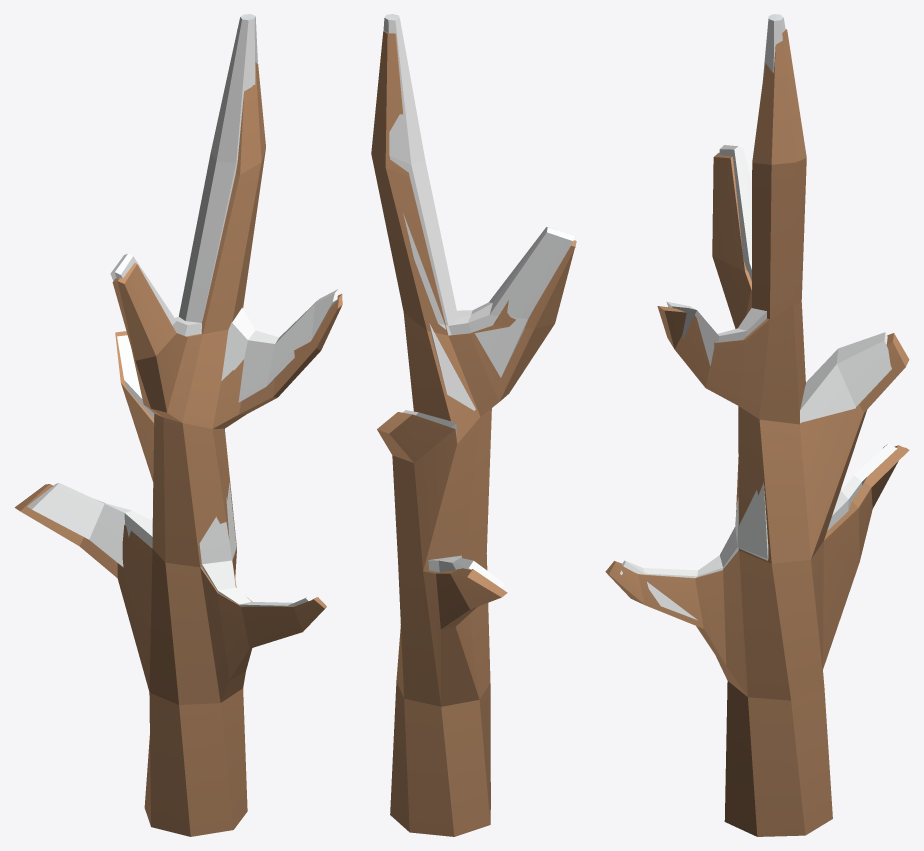
Rendered from arbuste2.fbx.
3 views of the same model, side by side, from view 1: azimuth 30°, elevation 25°; view 2: azimuth 150°, elevation 25°; view 3: azimuth 270°, elevation 25° (orthographic). The views are drawn at different scales.
Parts seen in each view (by area): view 1: Cylinder.086, Cylinder.089; view 2: Cylinder.086, Cylinder.089; view 3: Cylinder.086, Cylinder.089.
Part boxes in pixels (left/top/right/bottom): Cylinder.086: left=14, top=62, right=342, bottom=836; Cylinder.089: left=27, top=14, right=338, bottom=606; Cylinder.086: left=371, top=30, right=576, bottom=836; Cylinder.089: left=383, top=14, right=574, bottom=587; Cylinder.086: left=605, top=29, right=909, bottom=836; Cylinder.089: left=620, top=14, right=897, bottom=620.
Size of the model in its own units: 0.4502 by 1.52 by 0.5092.
Materials: 1 (1 with a texture image).
